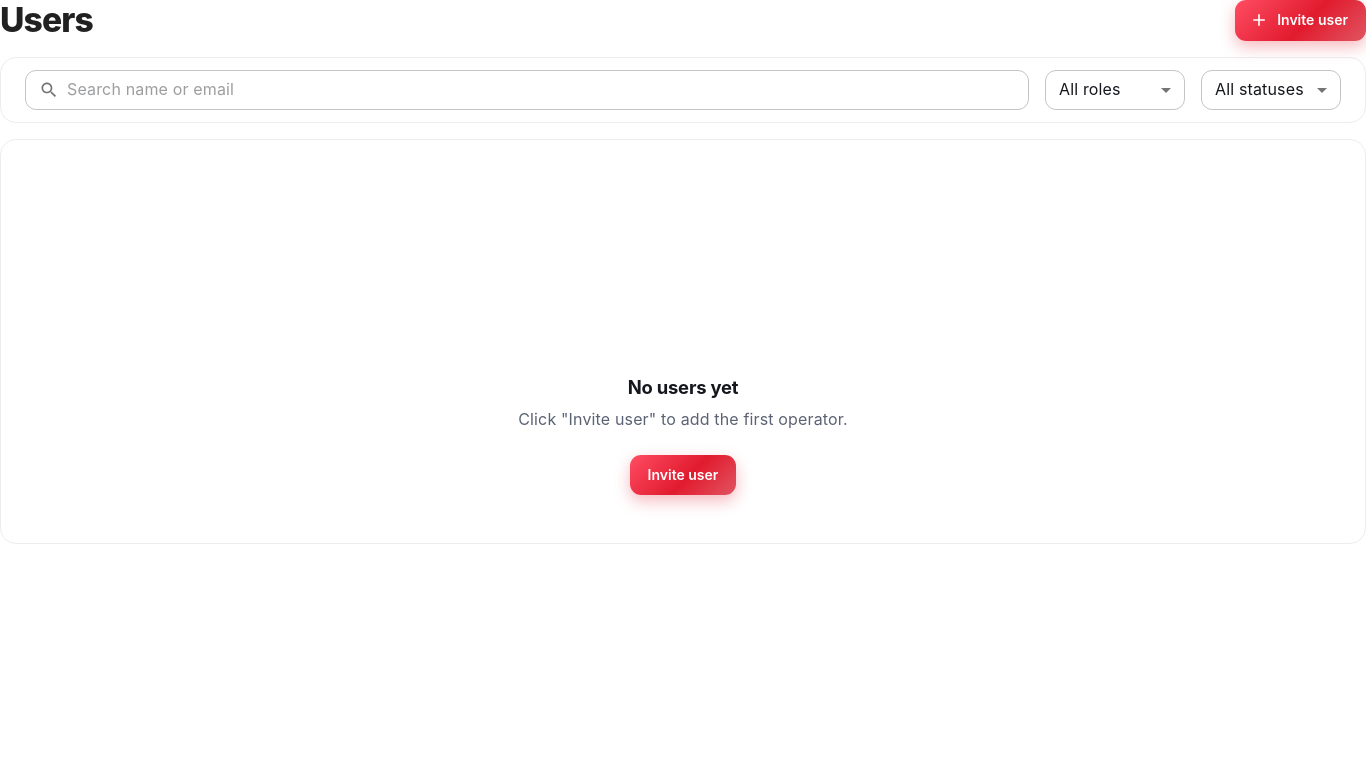
Test case: UsersPage › invite dialog shows error for empty email and no roles
The width and height of the screenshot is (1366, 768).
Click the 1st button "Invite user": {"x": 1301, "y": 20} [1235,0,1365,40]
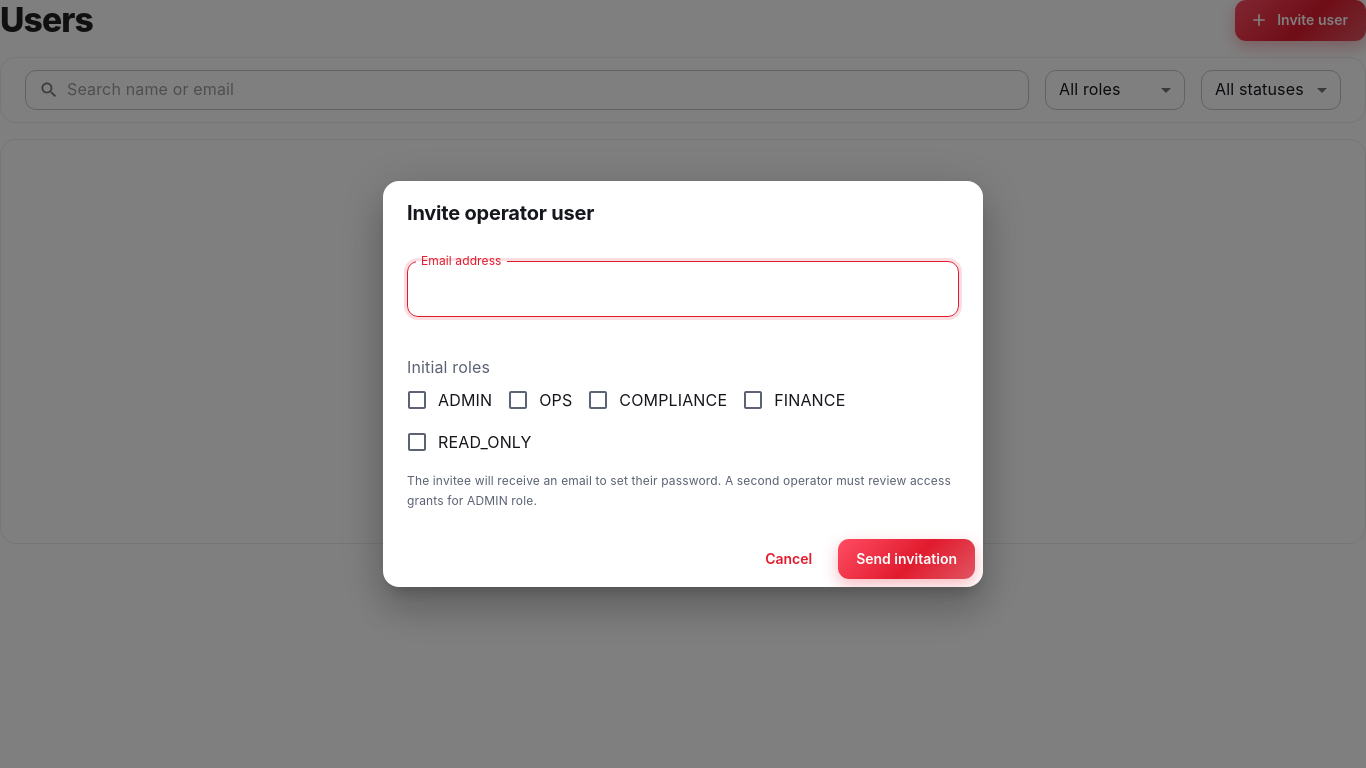
// Click send without filling anything
Click the button "Send invitation": {"x": 907, "y": 559} [838,539,975,579]
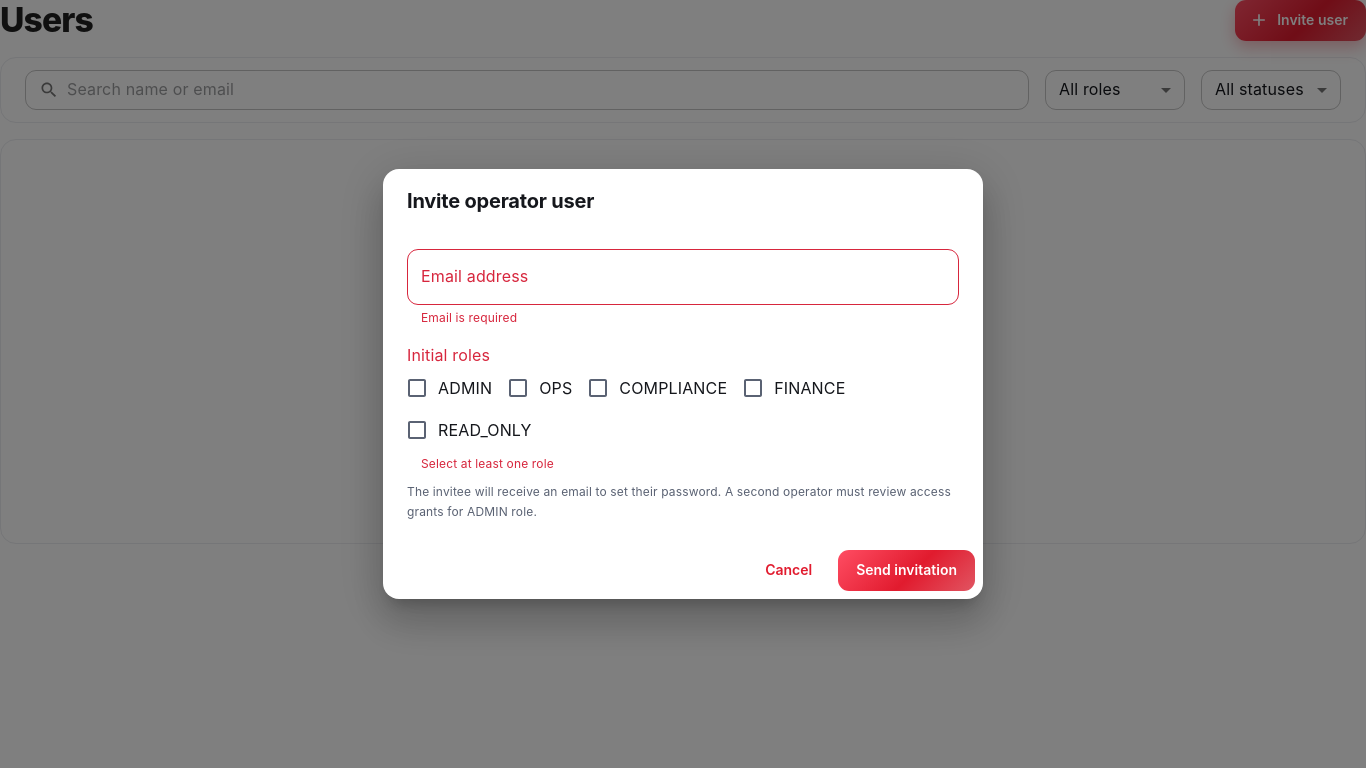
Now the text "Email is required" is shown, box [421,310,517,325]
Now the text "Select at least one role" is shown, box [421,456,554,471]
